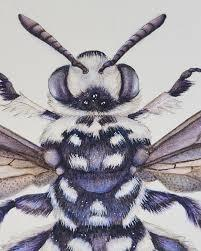Thyreus: (21, 1, 200, 251)
